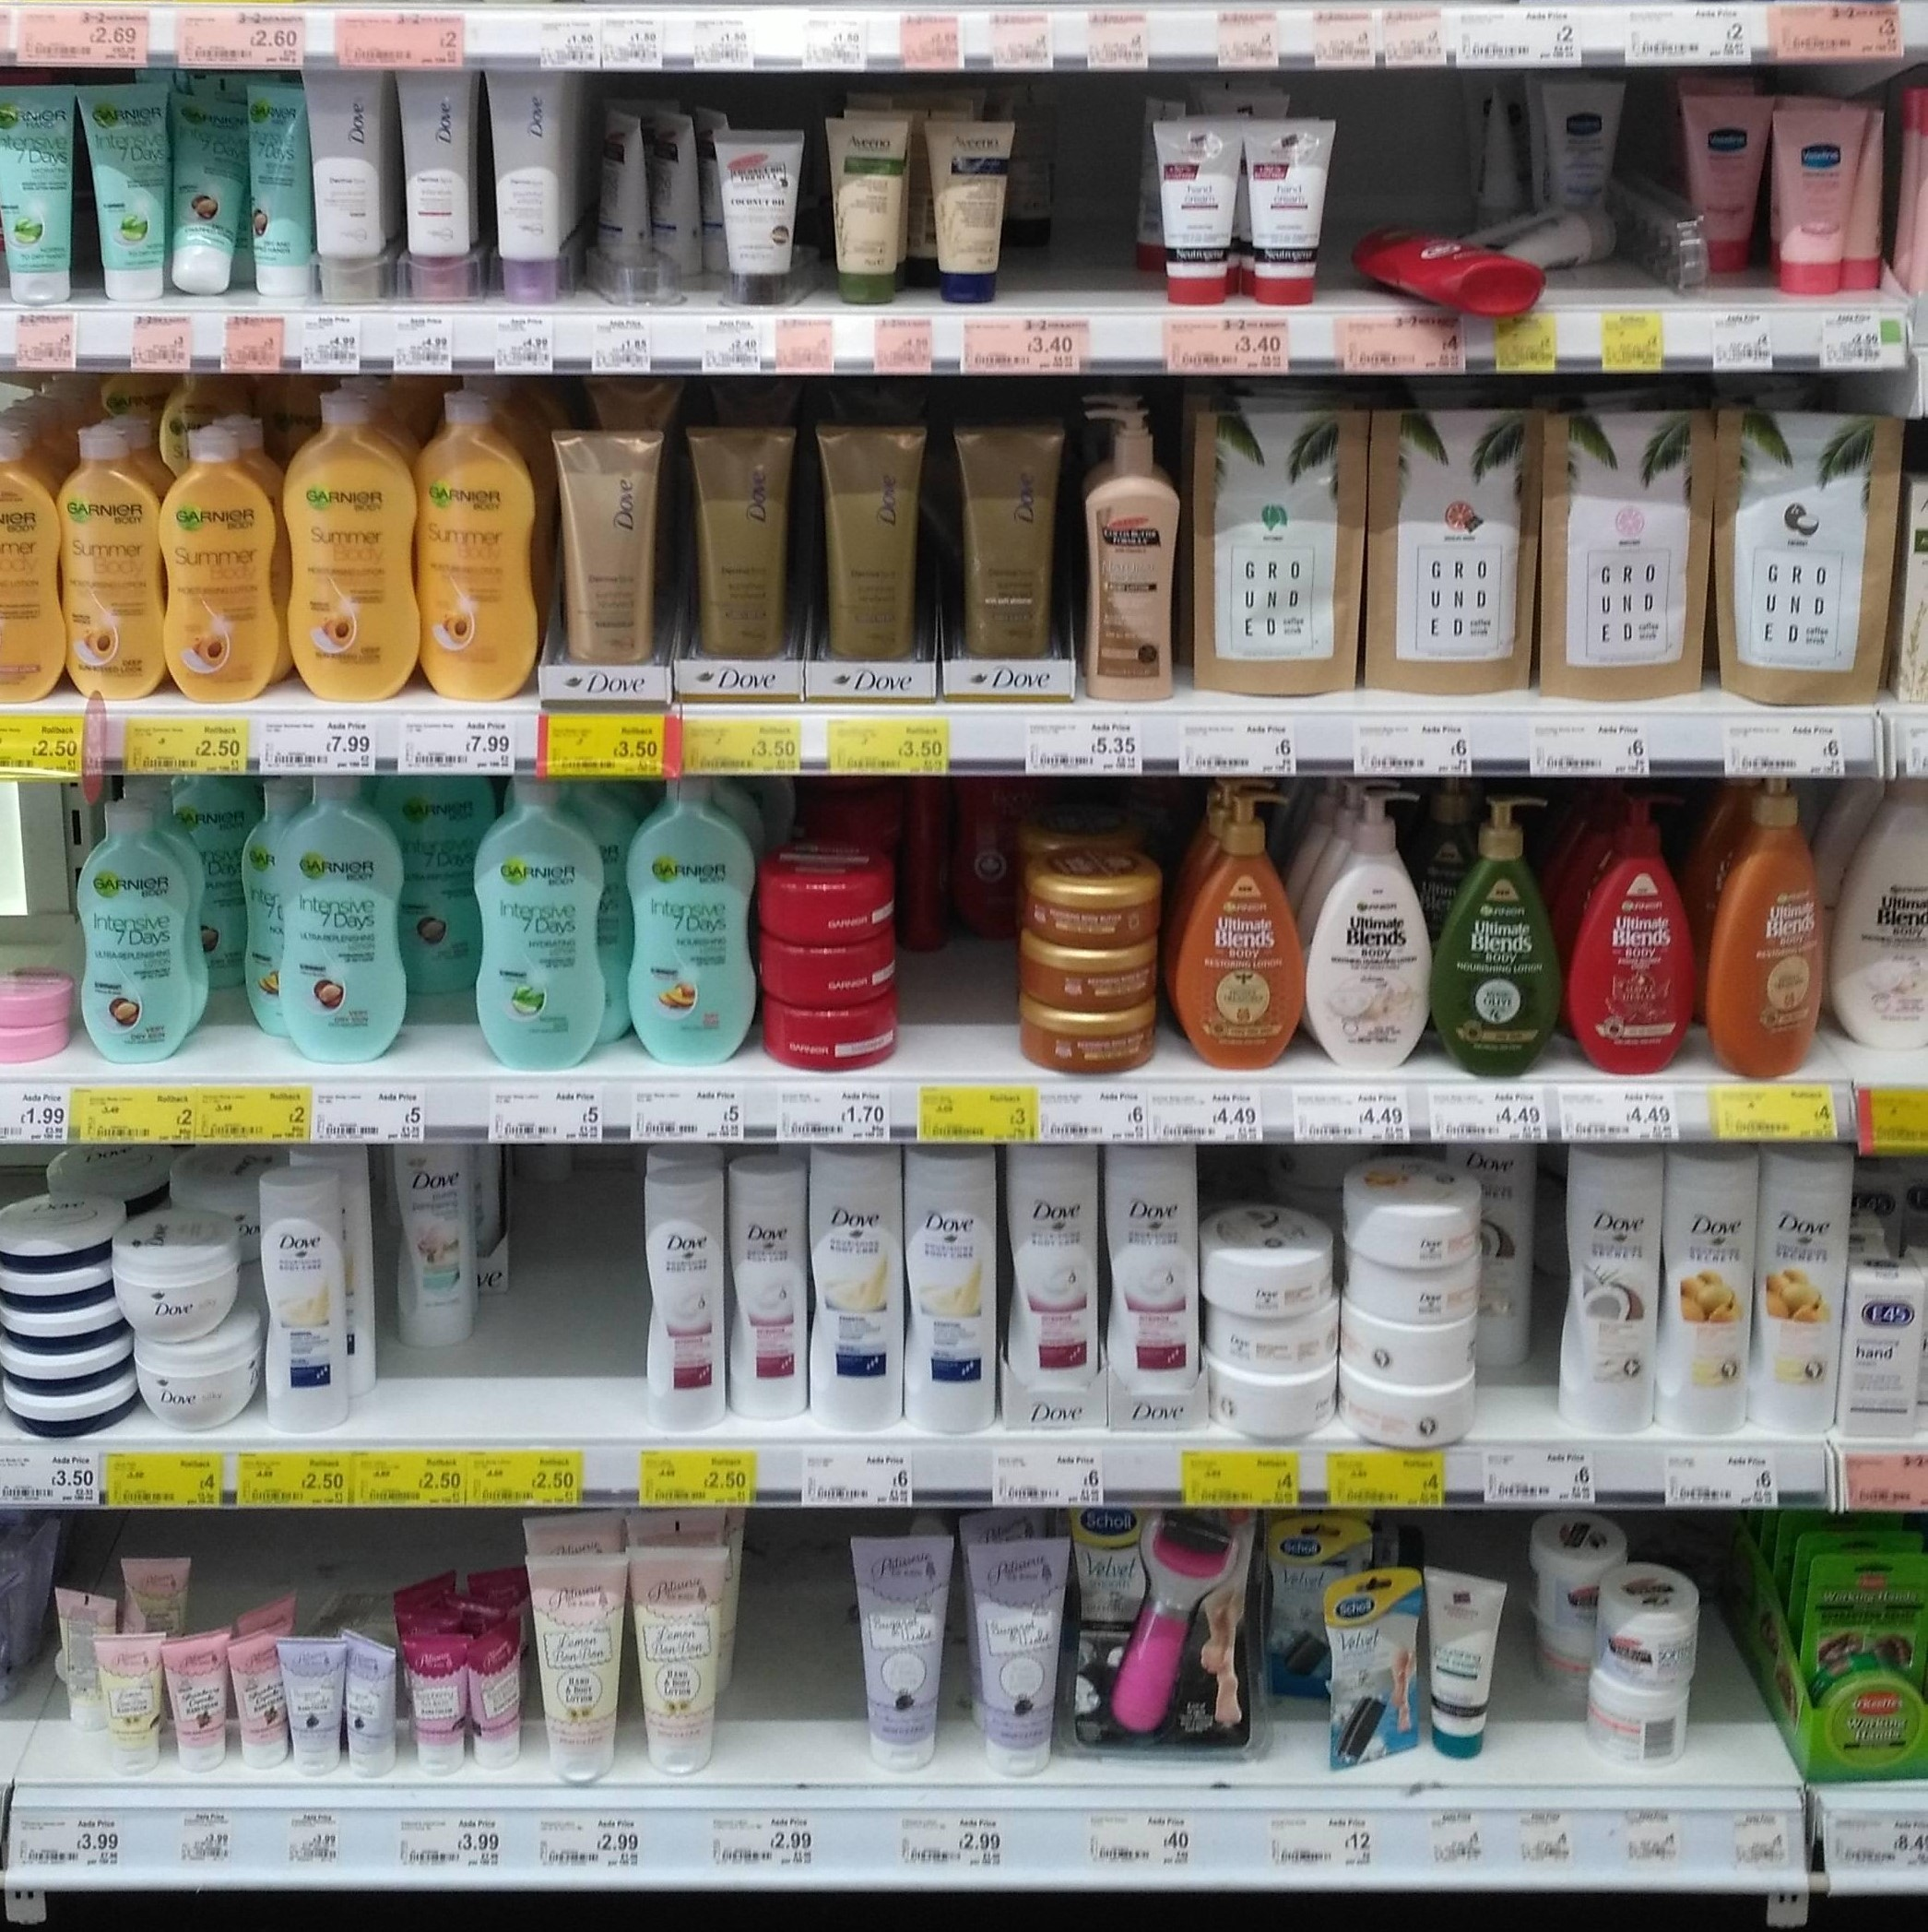empty: (526, 1148, 641, 1425), (756, 1529, 837, 1768), (1056, 108, 1125, 293)
misalignment: (1338, 212, 1626, 321), (1314, 1565, 1428, 1773)
